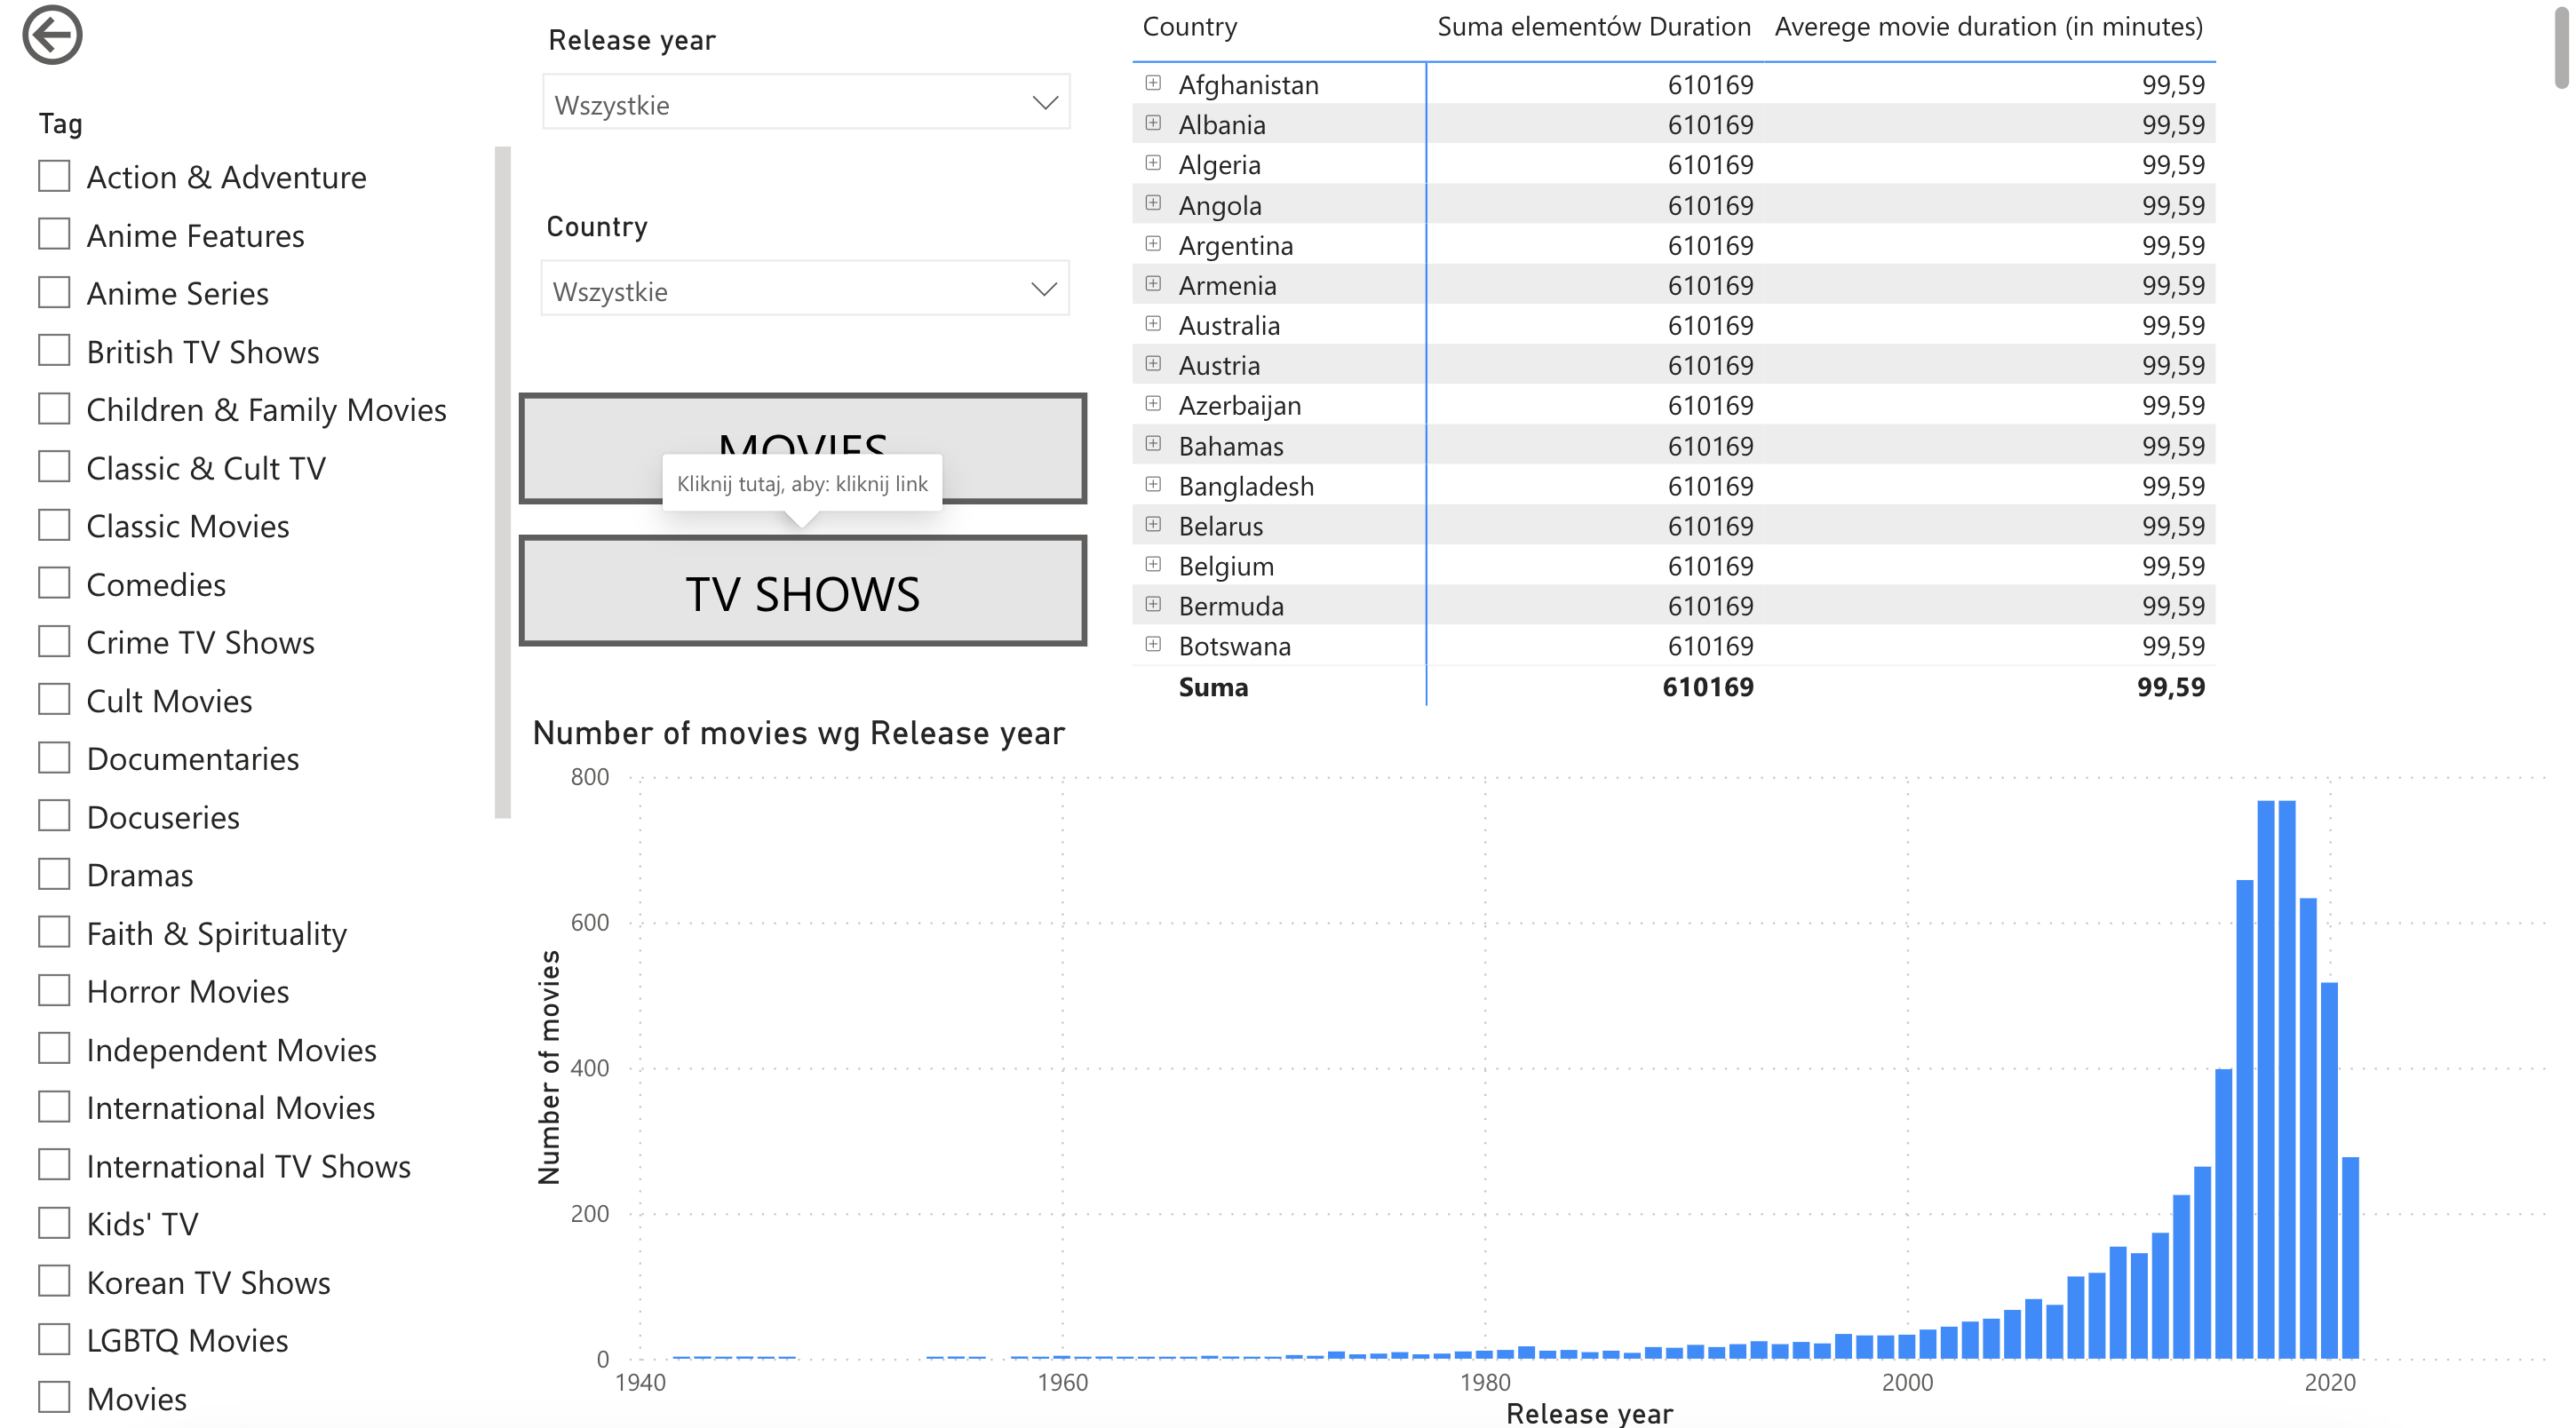

The page's visual inventory and layout, read from the dashboard file:
{"tool":"powerbi","page":{"name":"Netflix shows","canvas":[1280,720],"ordinal":0},"visuals":[{"type":"slicer","fields":{"Values":["Movies.Release year"]},"box":[254.1,10.8,283.6,82.1],"z":0},{"type":"slicer","fields":{"Values":["Countries.Country"]},"box":[253.6,103.8,283.9,76.2],"z":1000},{"type":"pivotTable","fields":{"Rows":["Countries.Country","Movies.Title"],"Values":["Sum(Movies.Duration)","Movies.Duration average per Release year"]},"box":[553.2,0,726.8,359.5],"z":2000},{"type":"slicer","fields":{"Values":["Tags.Tag"]},"box":[0,52.6,253.6,667.6],"z":3000},{"type":"clusteredColumnChart","fields":{"Y":["Movies.Number of movies"],"Category":["Movies.Release year"]},"box":[254,360.2,1026,360.2],"z":4000},{"type":"actionButton","box":[252.6,198.3,283.6,55.8],"z":5000},{"type":"actionButton","box":[252.6,269.6,283.6,55.8],"z":6000},{"type":"actionButton","box":[0,0,100,40],"z":10000}]}

Visuals, with their boxes on the page's 1280x720 design canvas (x1, y1, x2, y2). These are canvas units, not pixel positions in the 2576x1428 screenshot, which may show the page scaled, cropped or inside an application window:
slicer - Movies.Release year: (x1=254, y1=11, x2=538, y2=93)
slicer - Countries.Country: (x1=254, y1=104, x2=538, y2=180)
pivotTable - Countries.Country x Movies.Title: (x1=553, y1=0, x2=1280, y2=360)
slicer - Tags.Tag: (x1=0, y1=53, x2=254, y2=720)
clusteredColumnChart - Movies.Number of movies x Movies.Release year: (x1=254, y1=360, x2=1280, y2=720)
actionButton: (x1=253, y1=198, x2=536, y2=254)
actionButton: (x1=253, y1=270, x2=536, y2=325)
actionButton: (x1=0, y1=0, x2=100, y2=40)
